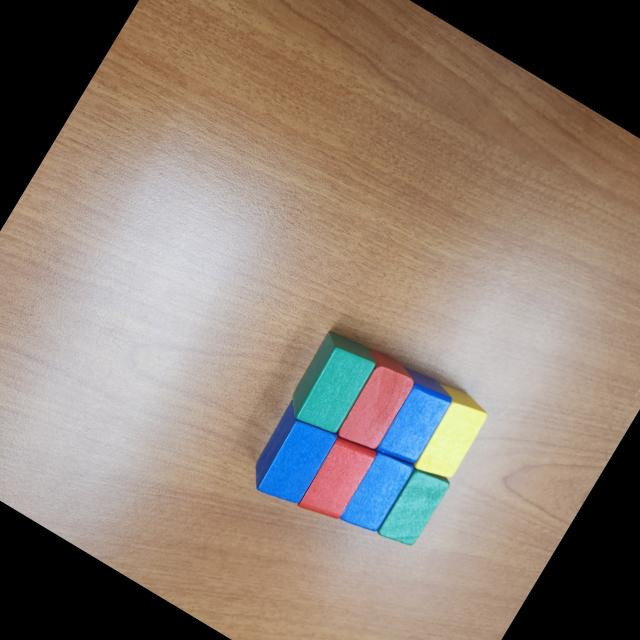blue: (242, 400, 342, 512), (358, 362, 457, 472), (338, 445, 418, 540)
green: (281, 324, 386, 442), (374, 459, 454, 554)
red: (322, 345, 419, 456), (296, 430, 379, 528)
yellow: (399, 381, 494, 486)
